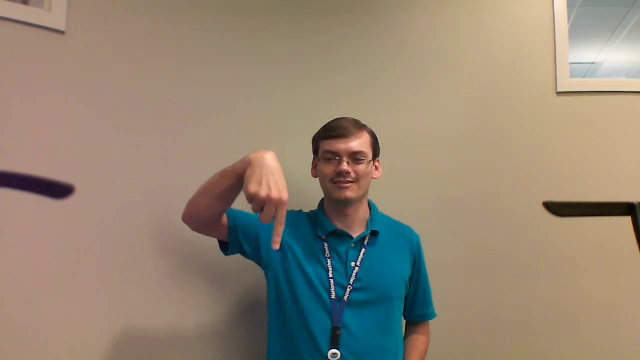down: (233, 143, 294, 259)
